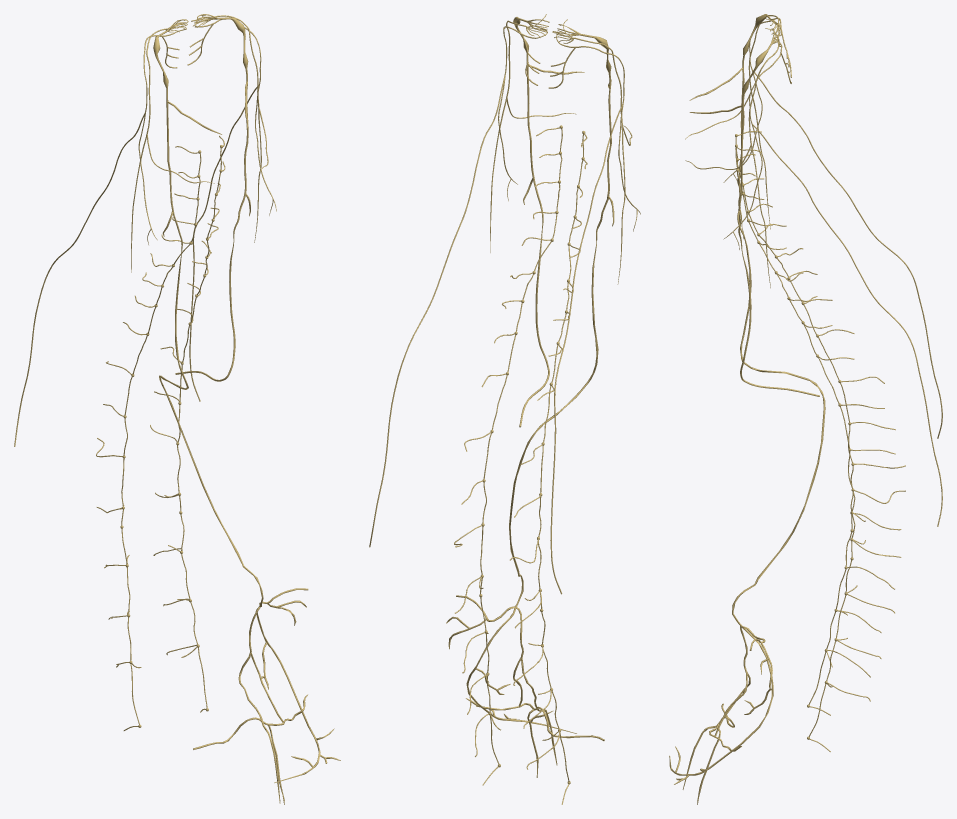
File: nervous-neck-balanced.glb
The picture shows the model from 3 angles, left to right: view 1: azimuth 30°, elevation 25°; view 2: azimuth 150°, elevation 25°; view 3: azimuth 270°, elevation 25°; orthographic projection. The views are drawn at different scales.
Visible parts, largest first — view 1: za.vagus-nerve-x-r, za.vagus-nerve-x-l, za.accessory-nerve-xi-r, za.accessory-nerve-xi-l, za.sympathetic-trunk-r, za.sympathetic-trunk-l, za.sympathetic-nerves-r, za.sympathetic-nerves-l, za.glossopharyngeal-nerve-ix-r, za.glossopharyngeal-nerve-ix-l; view 2: za.vagus-nerve-x-r, za.accessory-nerve-xi-r, za.accessory-nerve-xi-l, za.vagus-nerve-x-l, za.sympathetic-trunk-l, za.sympathetic-trunk-r, za.sympathetic-nerves-l, za.sympathetic-nerves-r, za.glossopharyngeal-nerve-ix-l, za.glossopharyngeal-nerve-ix-r; view 3: za.vagus-nerve-x-r, za.vagus-nerve-x-l, za.accessory-nerve-xi-l, za.accessory-nerve-xi-r, za.sympathetic-nerves-l, za.sympathetic-trunk-l, za.sympathetic-nerves-r, za.sympathetic-trunk-r, za.glossopharyngeal-nerve-ix-l, za.glossopharyngeal-nerve-ix-r.
Part boxes in pixels (<box>): za.vagus-nerve-x-r: <box>153,19,340,804</box>; za.vagus-nerve-x-l: <box>175,14,250,381</box>; za.accessory-nerve-xi-r: <box>14,28,186,446</box>; za.accessory-nerve-xi-l: <box>187,17,276,401</box>; za.sympathetic-trunk-r: <box>121,146,201,730</box>; za.sympathetic-trunk-l: <box>177,135,224,712</box>; za.sympathetic-nerves-r: <box>96,172,197,668</box>; za.sympathetic-nerves-l: <box>150,161,225,657</box>; za.glossopharyngeal-nerve-ix-r: <box>131,19,214,272</box>; za.glossopharyngeal-nerve-ix-l: <box>191,15,268,242</box>; za.vagus-nerve-x-r: <box>446,24,614,777</box>; za.accessory-nerve-xi-r: <box>548,35,640,594</box>; za.accessory-nerve-xi-l: <box>369,26,547,547</box>; za.vagus-nerve-x-l: <box>513,17,584,427</box>; za.sympathetic-trunk-l: <box>480,127,562,785</box>; za.sympathetic-trunk-r: <box>538,133,587,804</box>; za.sympathetic-nerves-l: <box>454,153,558,756</box>; za.sympathetic-nerves-r: <box>509,159,587,769</box>; za.glossopharyngeal-nerve-ix-l: <box>490,14,576,252</box>; za.glossopharyngeal-nerve-ix-r: <box>552,19,632,284</box>; za.vagus-nerve-x-r: <box>669,14,825,804</box>; za.vagus-nerve-x-l: <box>689,29,819,396</box>; za.accessory-nerve-xi-l: <box>723,38,942,526</box>; za.accessory-nerve-xi-r: <box>723,18,942,438</box>; za.sympathetic-nerves-l: <box>738,171,905,701</box>; za.sympathetic-trunk-l: <box>735,147,855,751</box>; za.sympathetic-nerves-r: <box>739,154,905,677</box>; za.sympathetic-trunk-r: <box>735,131,855,715</box>; za.glossopharyngeal-nerve-ix-l: <box>685,28,781,288</box>; za.glossopharyngeal-nerve-ix-r: <box>685,15,781,229</box>.
Bounding box in the file's own units: 0.1295 × 0.4724 × 0.1551.
